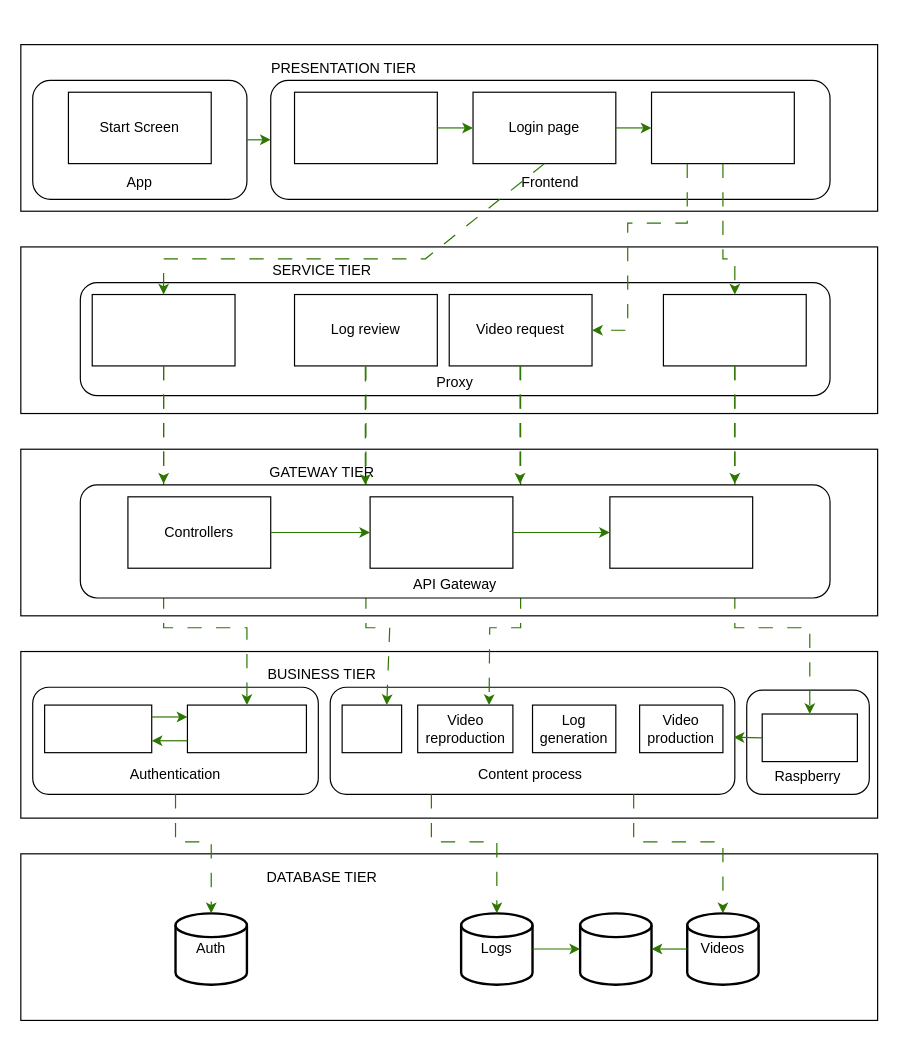
This 898x1041 diagram has some shape labels left out. Each missing label, with the centre of its shape:
Account page: point 722,127
Backups: point 615,948
Google autorization: point 97,728
Home page: point 365,127
Livestream capture: point 809,737
Livestream view: point 734,329
Login request: point 163,329
Login verification: point 246,728
Logs display: point 371,728
Routing: point 681,532
Secure assesment: point 441,532
